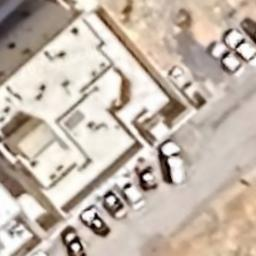sedan: (208, 42, 246, 77), (223, 28, 256, 68), (116, 176, 146, 210), (80, 210, 110, 238), (100, 192, 128, 220), (61, 230, 88, 256), (134, 164, 159, 190)
truck: (159, 142, 186, 186)
